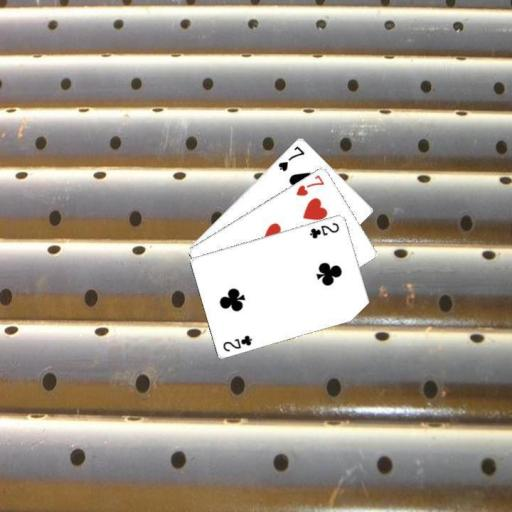card-corner: (275, 142, 306, 173), (293, 171, 326, 197), (306, 219, 340, 240), (220, 332, 254, 353)
